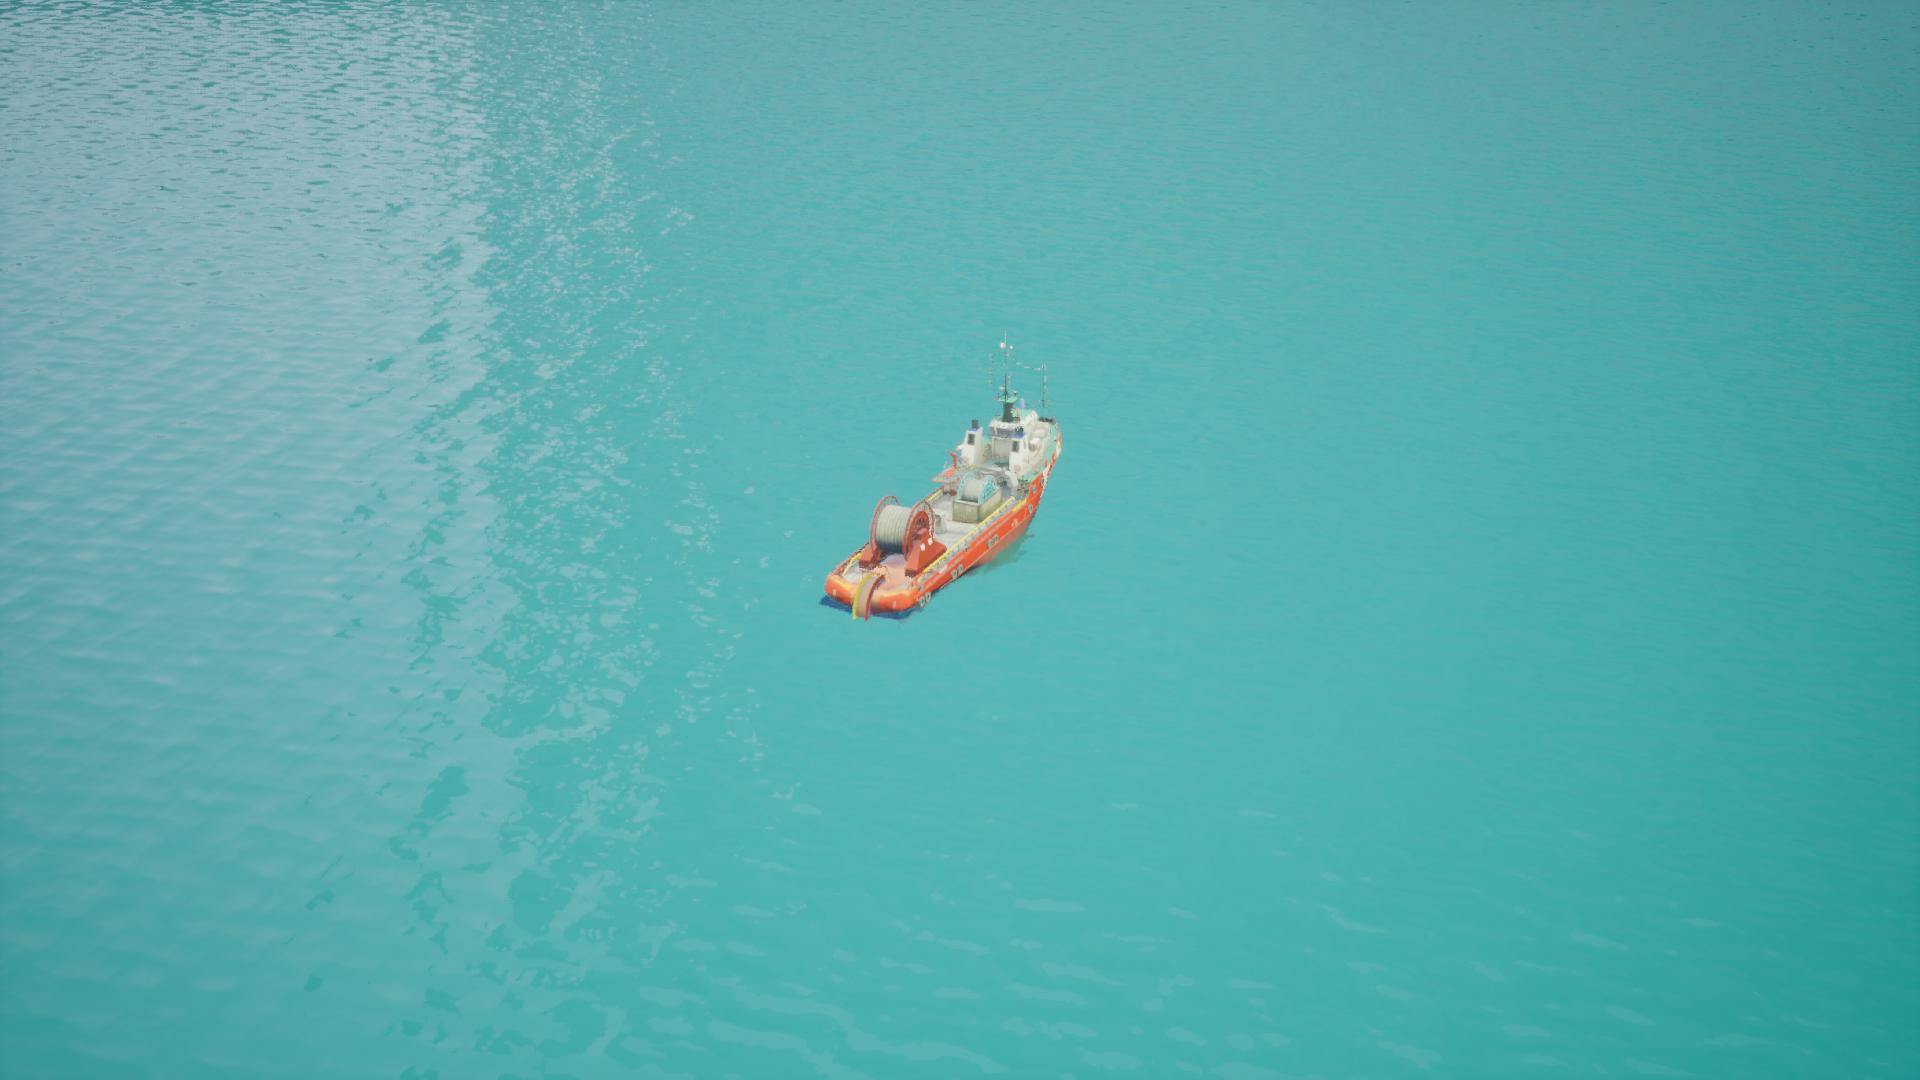Tug Boat: (890, 335, 1062, 621)
